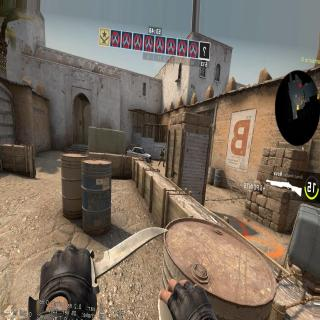CT-Body: (158, 147, 165, 164)
CT-Head: (162, 147, 165, 151)
